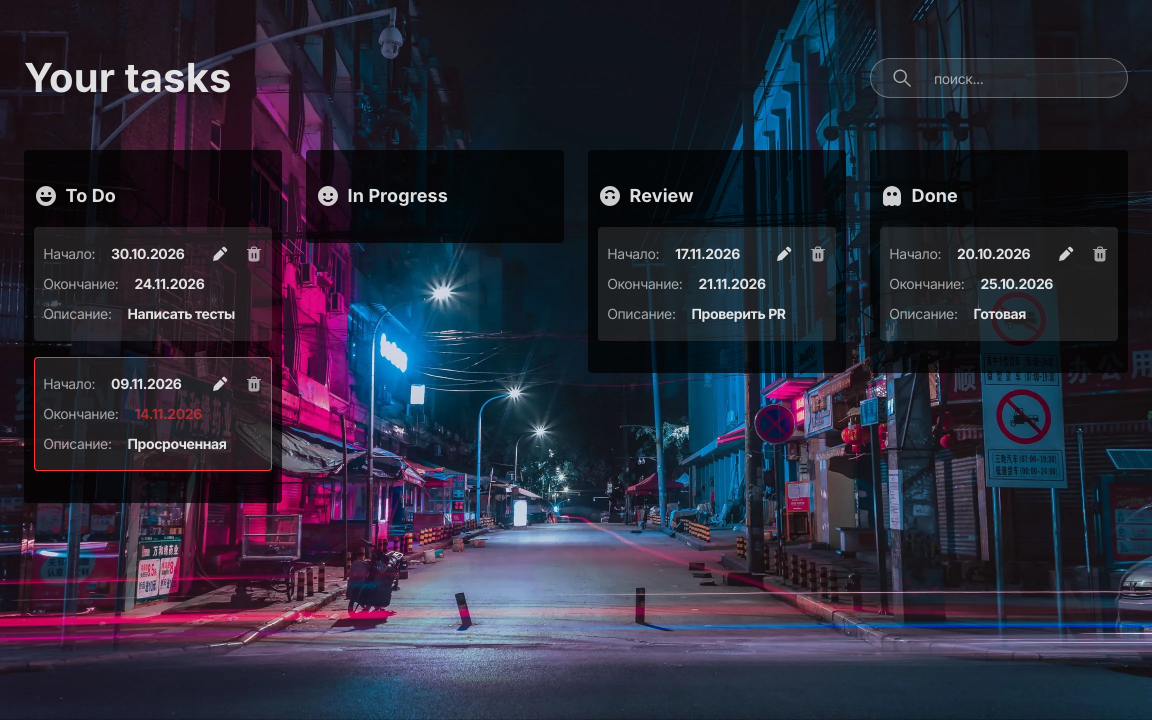
Test: редактирование › не сохраняет, если окончание раньше начала
The width and height of the screenshot is (1152, 720).
Click the button named "Редактировать задачу: Проверить PR": (784, 254) x1=775 y1=245 x2=793 y2=263
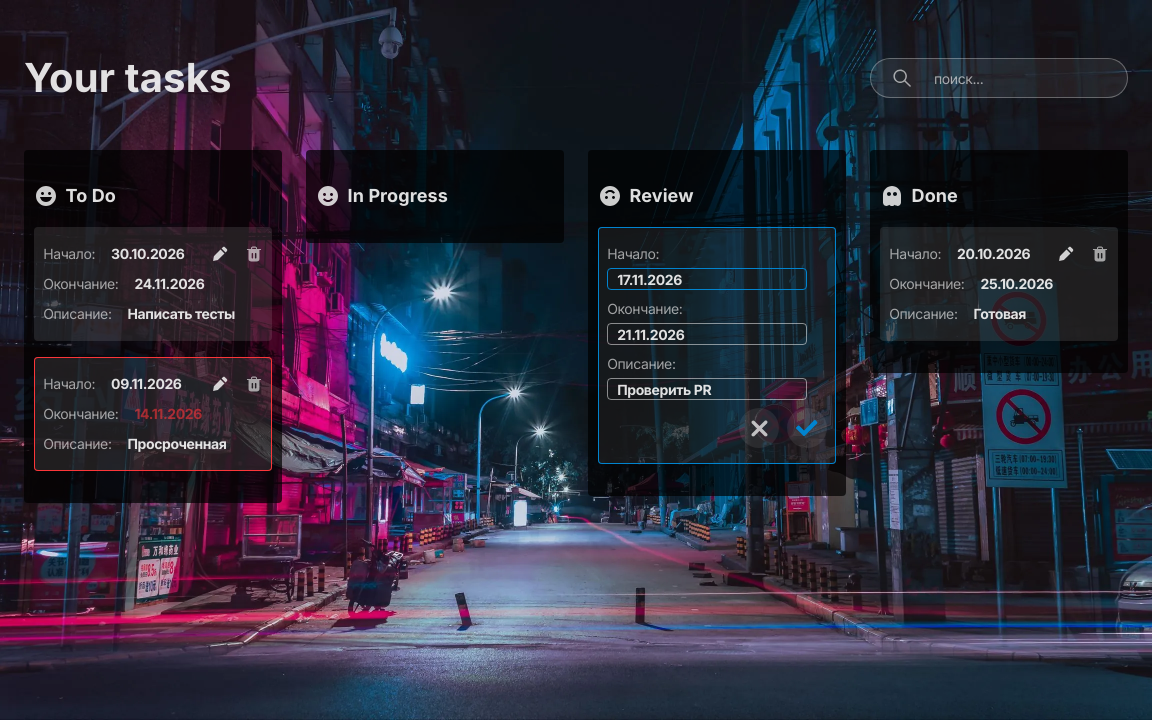
Replace the text in the field labelled "Окончание:" with "01.01.2000": (707, 334) x1=607 y1=323 x2=807 y2=345
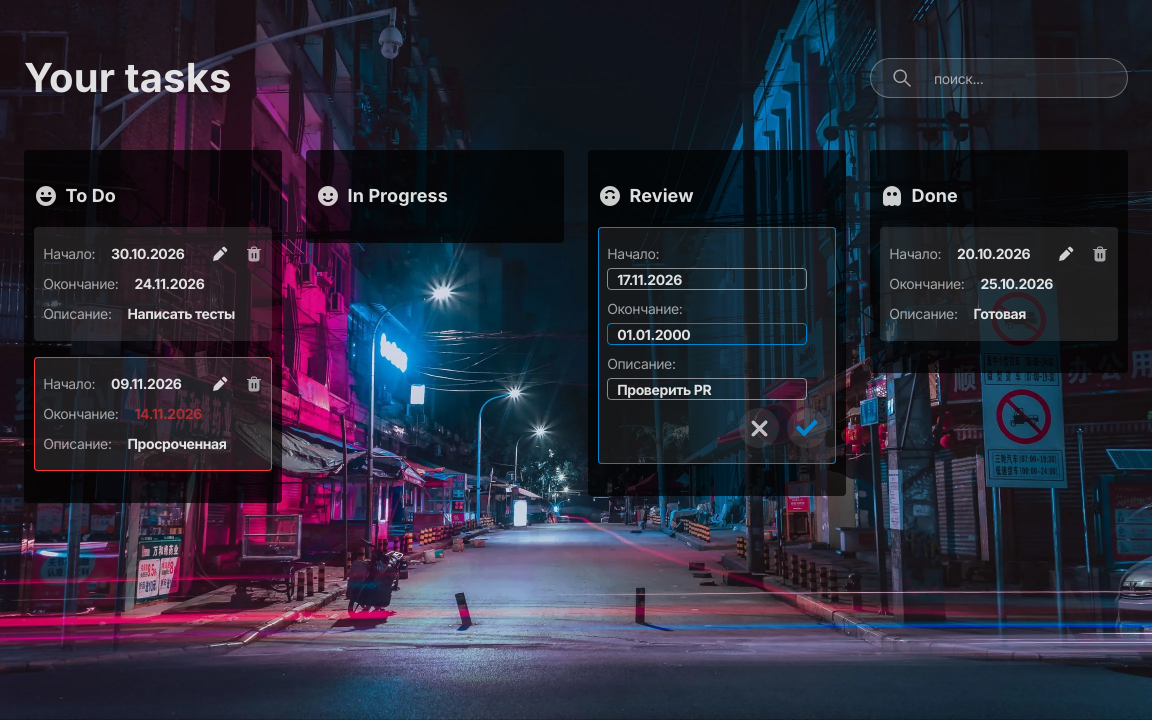
Click the button named "Сохранить изменения": (807, 428) x1=787 y1=408 x2=827 y2=448
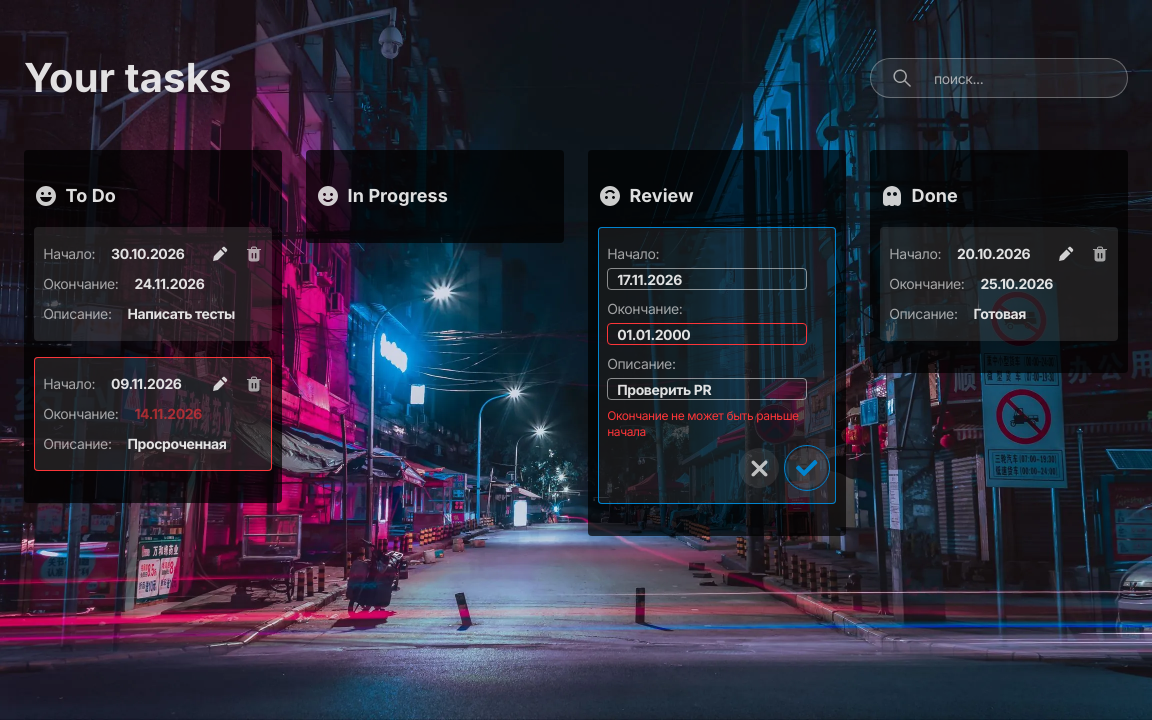
Now the message reads "Окончание не может быть раньше начала", box x1=607 y1=408 x2=799 y2=439
